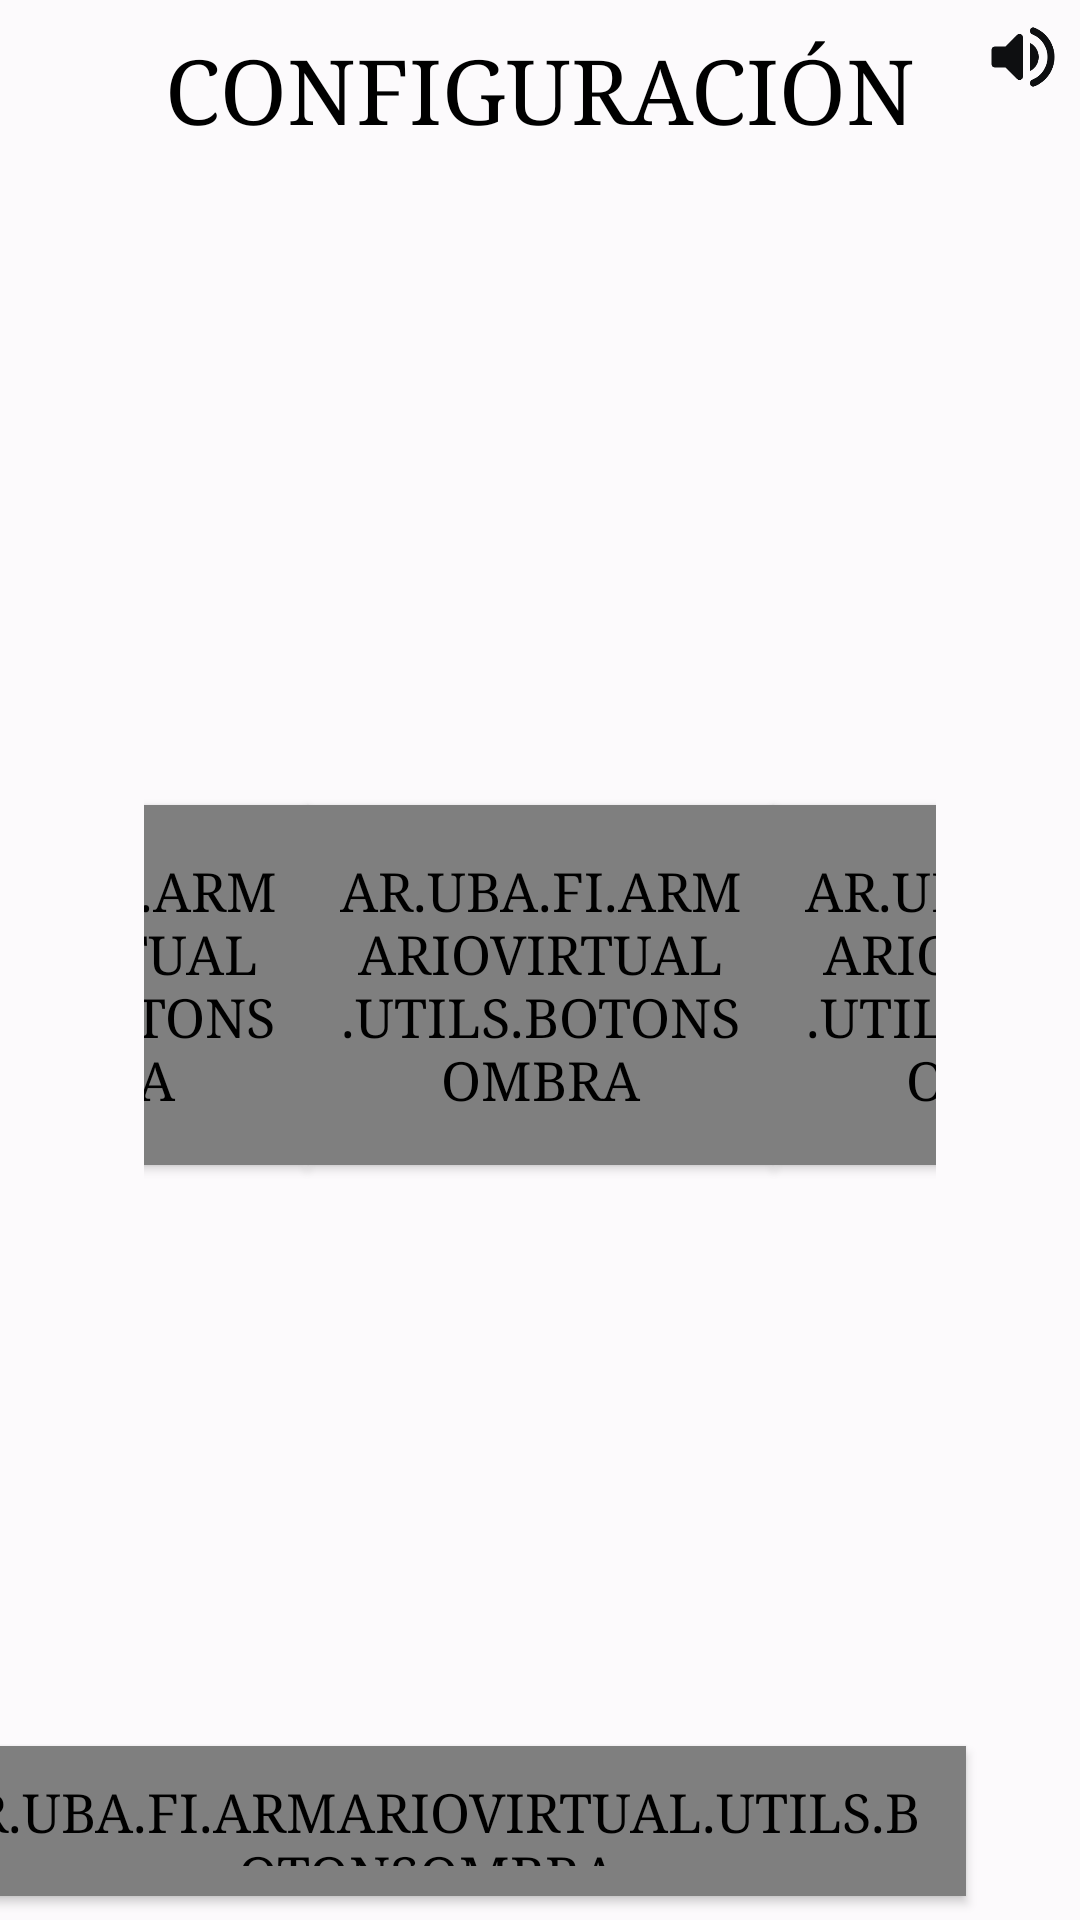

Screen size 1080 x 1920. Icon name, then its box in pixels as BBox(x1, y1, x2, y2):
Sonido: BBox(991, 27, 1055, 87)
